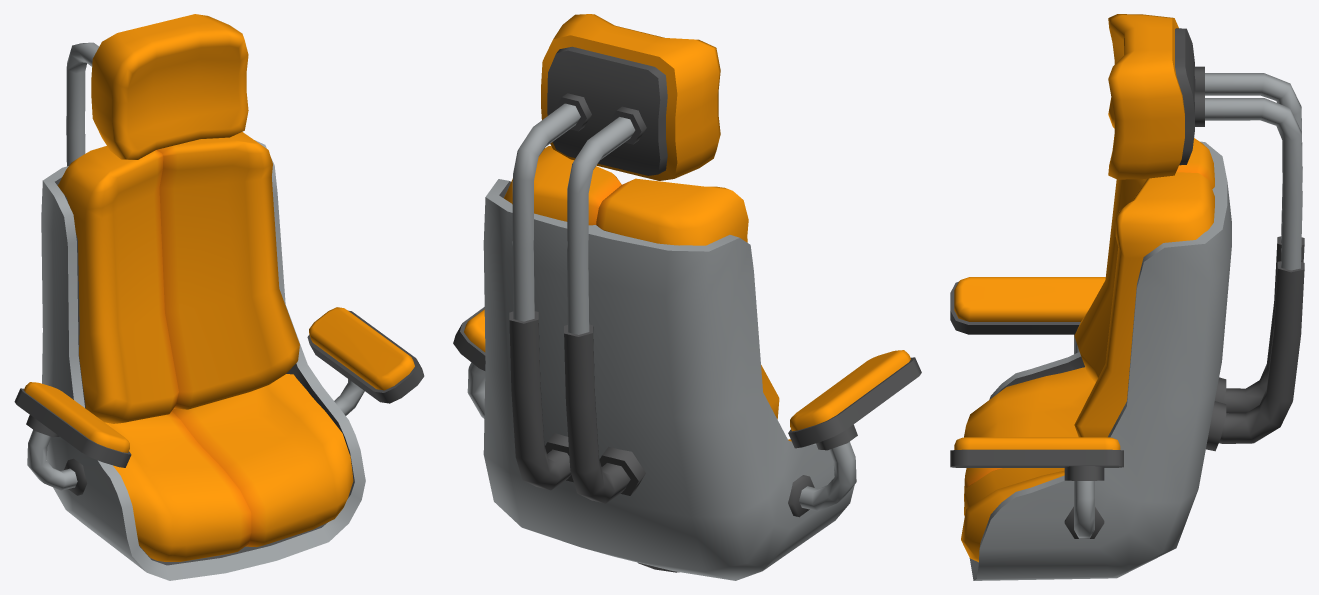
The model's file is Armchair_002.fbx.
3 views of the same model, side by side, from view 1: azimuth 30°, elevation 25°; view 2: azimuth 150°, elevation 25°; view 3: azimuth 270°, elevation 25° (orthographic). The views are drawn at different scales.
Parts seen in each view (by area): view 1: Armchair_002; view 2: Armchair_002; view 3: Armchair_002.
Part boxes in pixels (left/top/right/bottom): Armchair_002: left=14, top=14, right=424, bottom=580; Armchair_002: left=453, top=14, right=921, bottom=580; Armchair_002: left=950, top=14, right=1304, bottom=580.
Size of the model in its own units: 95.25 by 80.37 by 129.
